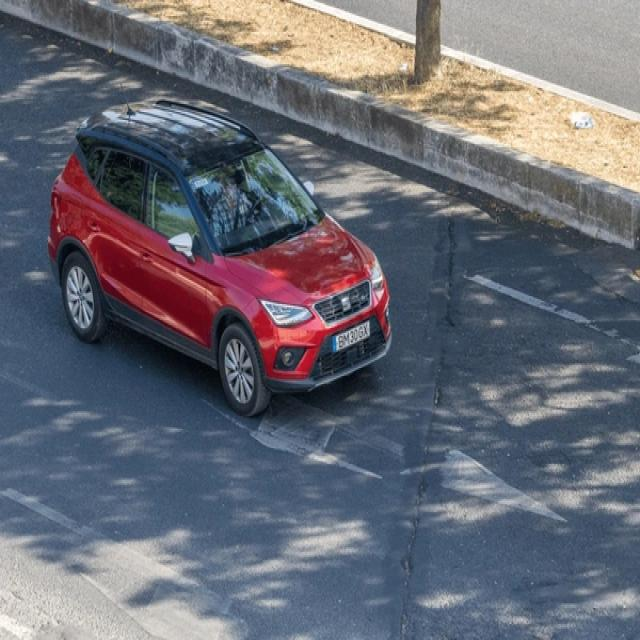seat: (339, 290, 354, 319)
